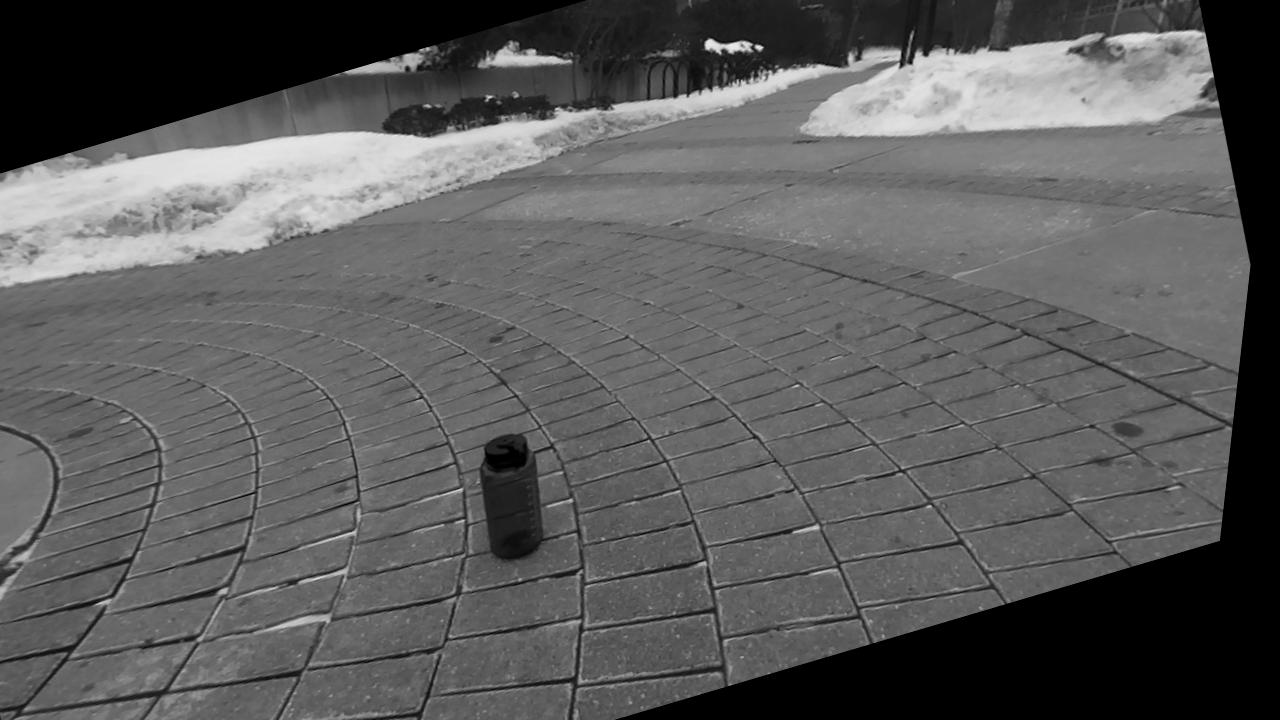bottle: (480, 435, 543, 558)
